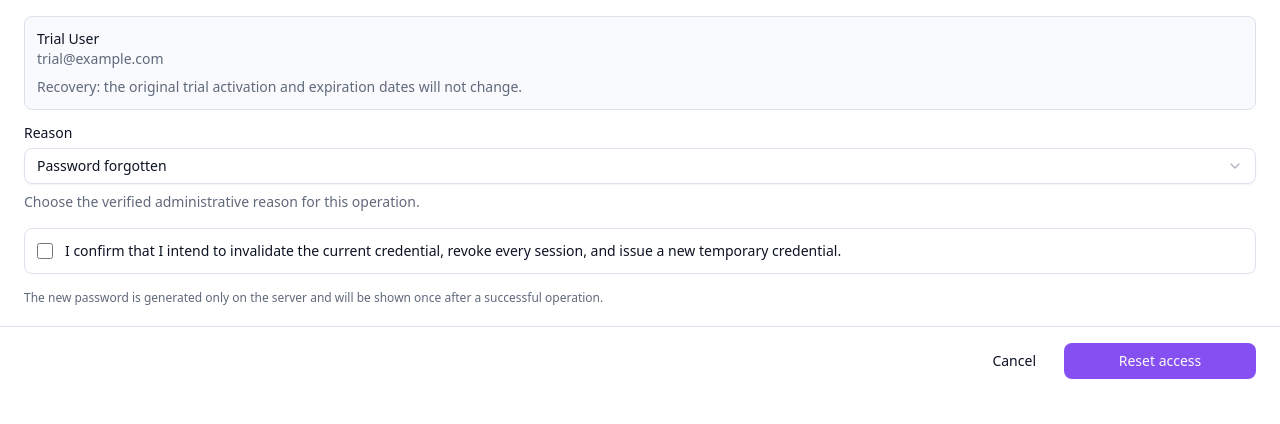
Test: credential reissue container › submits the target version and stable operation ID only after explicit confirmation
Later steps or results of the test are not shown.
Click the button "Reset access".
click(1160, 361)  # box left=1064, top=343, right=1256, bottom=379
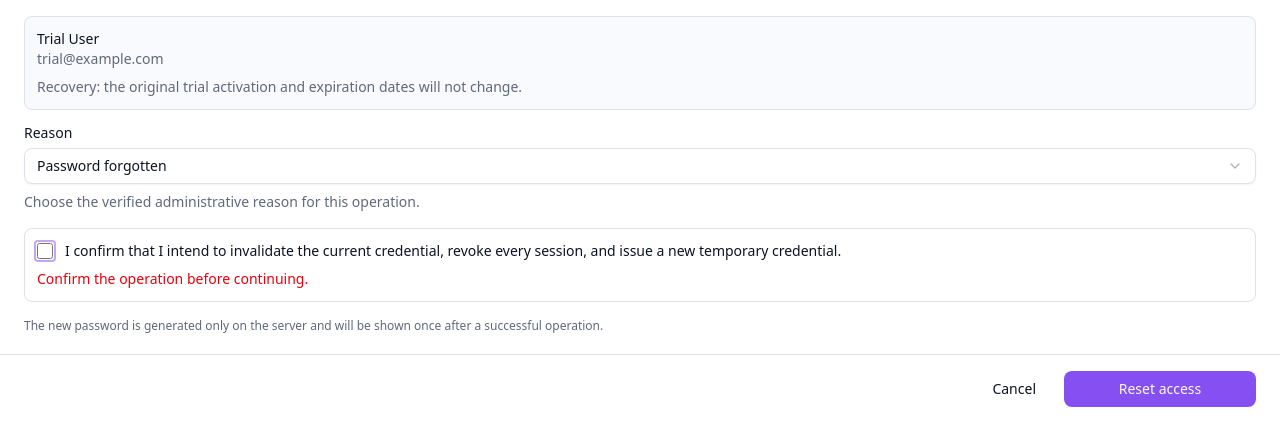
Result: the text "Confirm the operation before continuing." is shown at left=37, top=269, right=308, bottom=288
